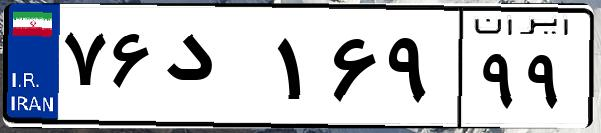1: (270, 28, 330, 110)
6: (330, 28, 385, 110), (110, 28, 158, 98)
7: (57, 26, 110, 100)
9: (385, 28, 445, 110), (475, 38, 525, 113), (525, 38, 570, 115)
د: (158, 20, 270, 120)
